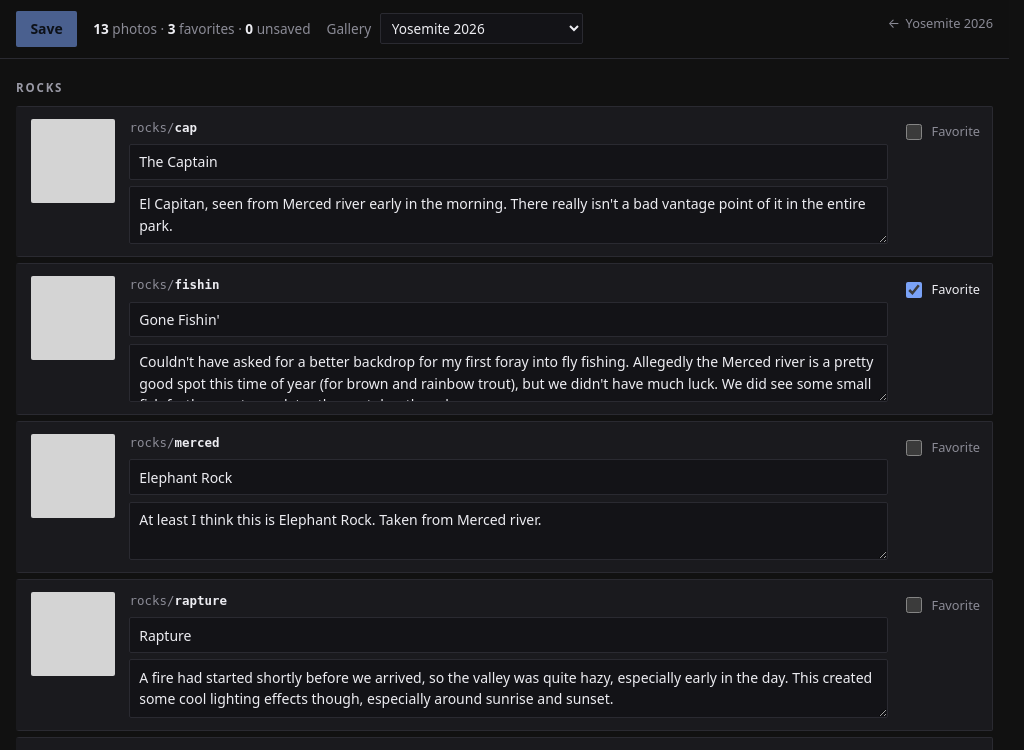
Test: editing and saving › falls back to a download when the write is refused
Replace the text in the field with class "f-title" below "fishin" with "Doomed" at (509, 319), box [129,302,888,337]
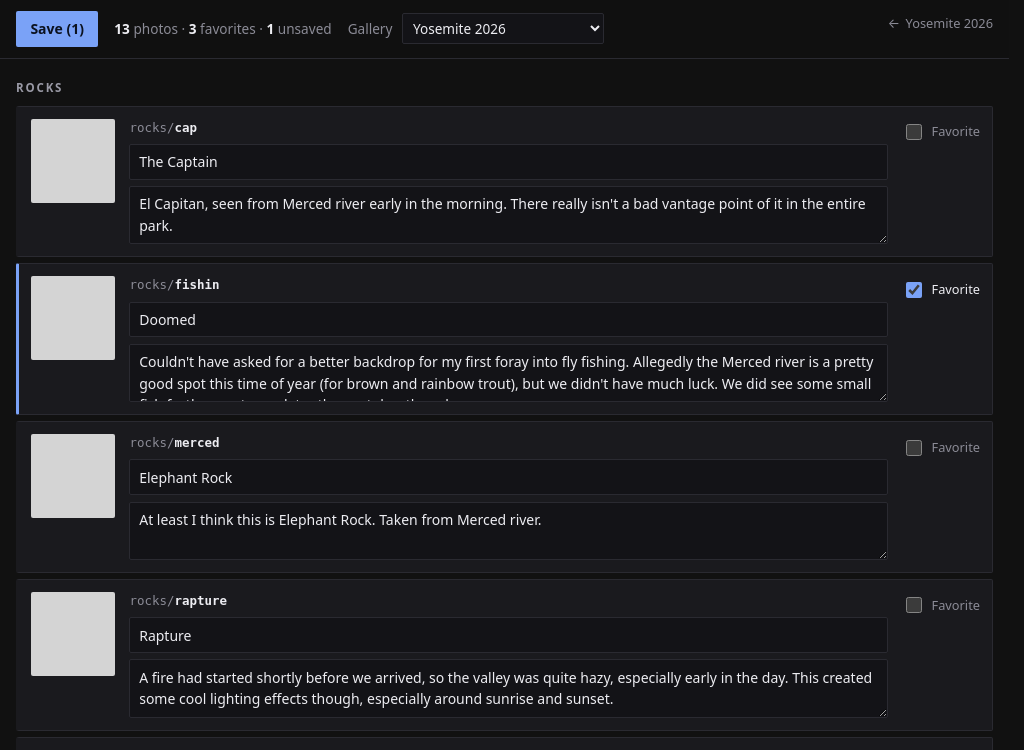
Now the button "Save (1)" is enabled
Click the button "Save (1)" at (57, 29), box [16,11,98,47]
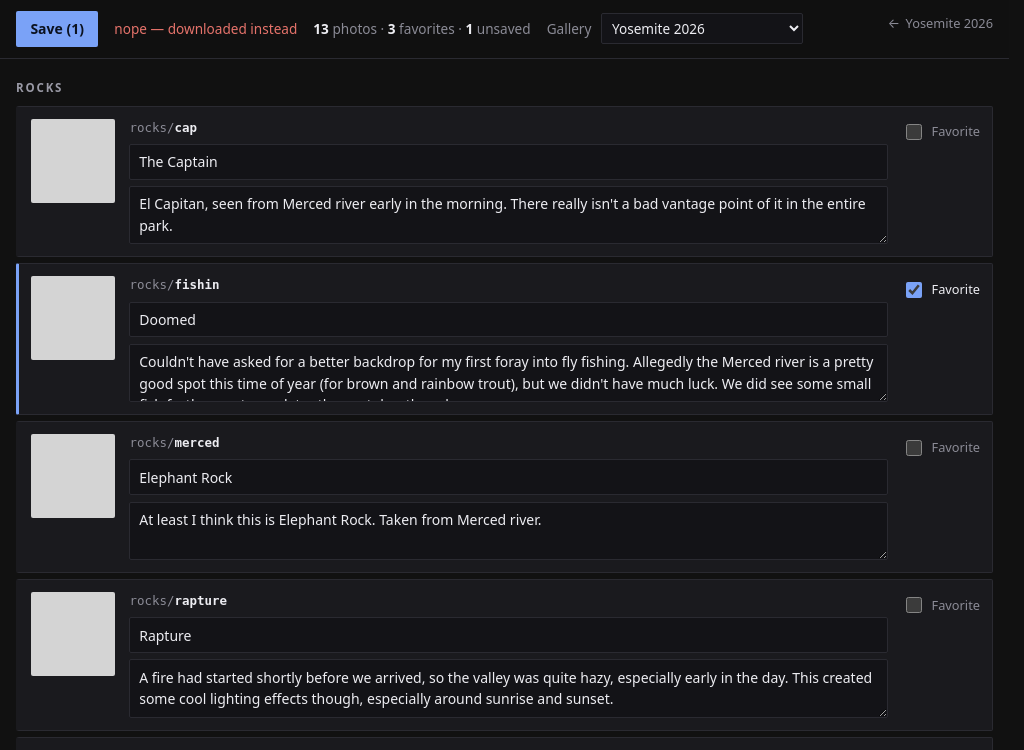
Now the button "Save (1)" is enabled, box [16,11,98,47]
Now the text "nope — downloaded instead" is shown, box [114,19,297,39]
